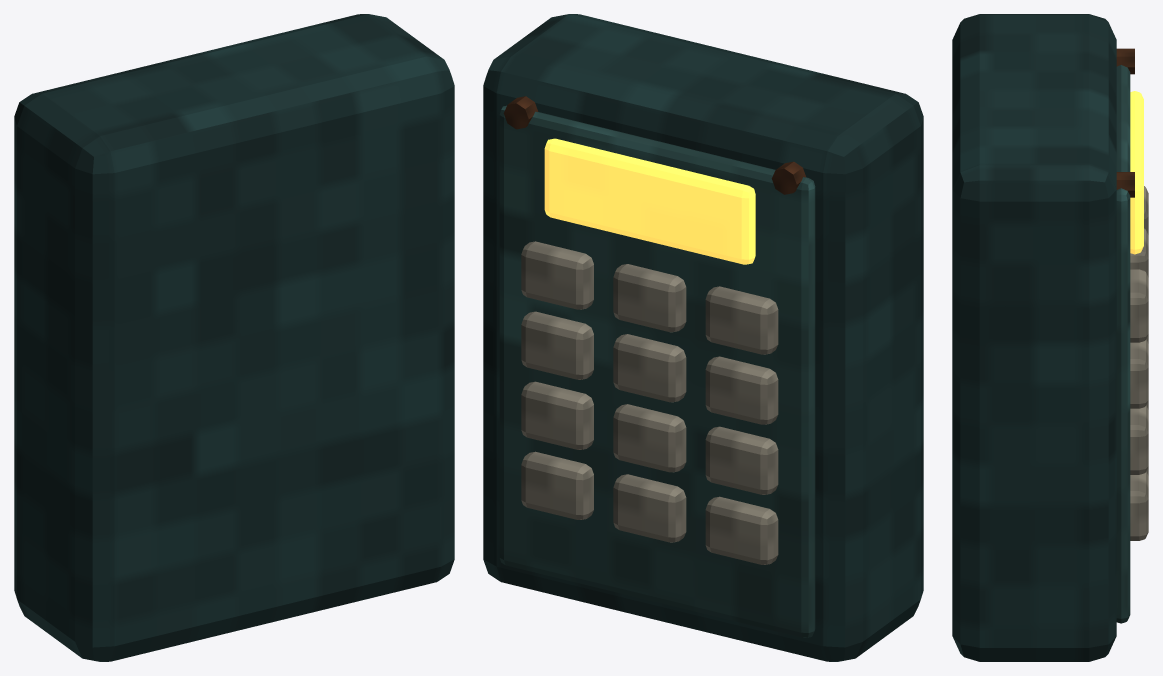
Rendered from keypad_lock.glb.
The picture shows the model from 3 angles, left to right: view 1: azimuth 30°, elevation 25°; view 2: azimuth 150°, elevation 25°; view 3: azimuth 270°, elevation 25°; orthographic projection. The views are drawn at different scales.
Parts seen in each view (by area): view 1: keypad_lock; view 2: keypad_lock; view 3: keypad_lock.
Part boxes in pixels (x1,y1,x2,y2): keypad_lock: [14, 14, 454, 661]; keypad_lock: [483, 14, 923, 661]; keypad_lock: [952, 14, 1148, 661].
Bounding box in the file's own units: 0.09 × 0.12 × 0.043.
5 materials, 5 textured.
